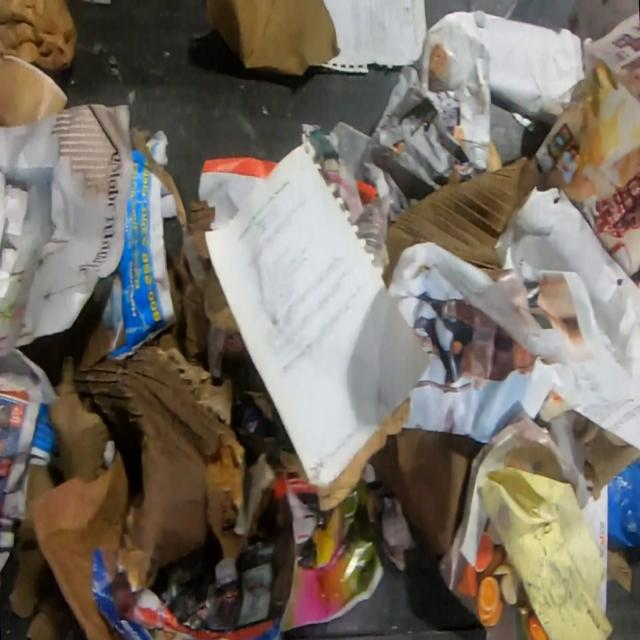cardboard: (15, 199, 300, 593), (380, 155, 563, 289), (27, 445, 131, 640), (369, 428, 488, 560), (205, 0, 342, 77)
soft_plastic: (606, 450, 640, 551)
